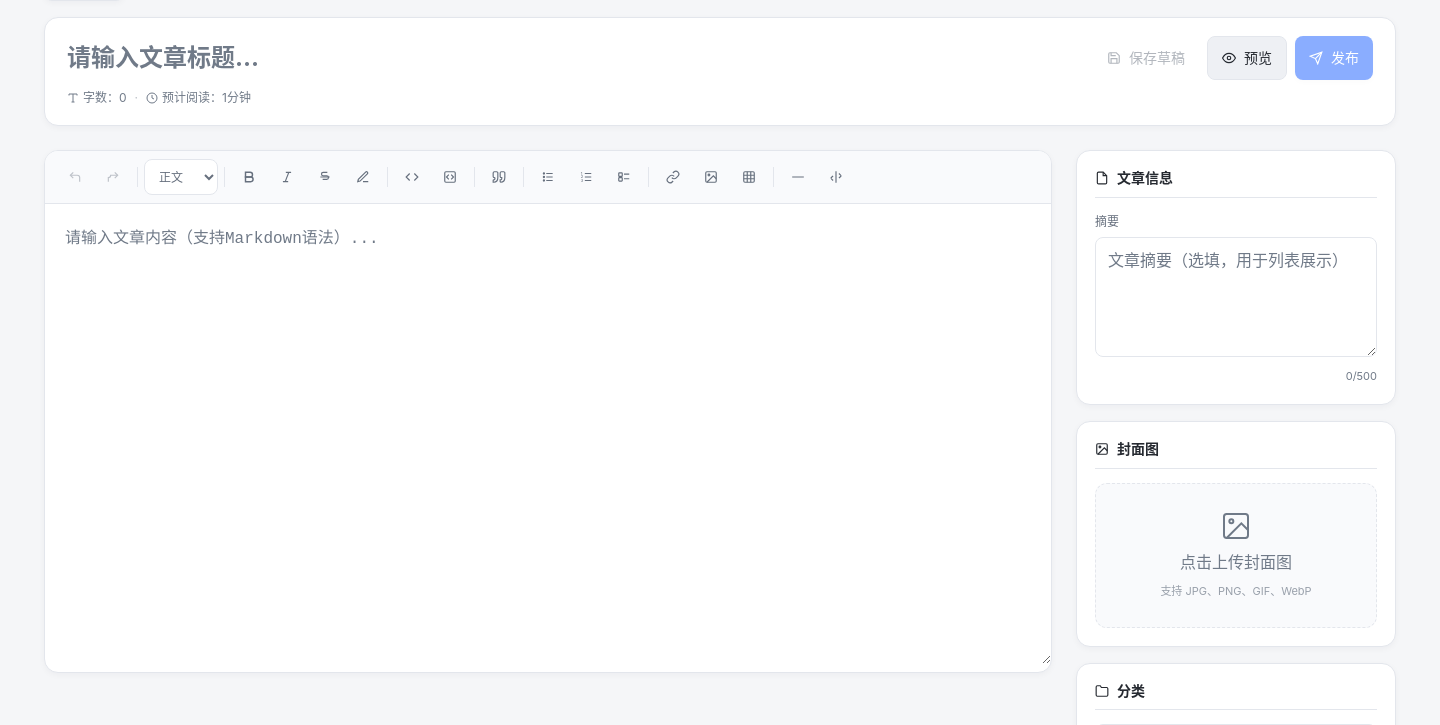
author editor smoke coverage › saves a draft with the real payload and reports the saved state
Type "新的记录" into the field with class "title-input" at {"x": 534, "y": 58}, box [67,39,1001,77]
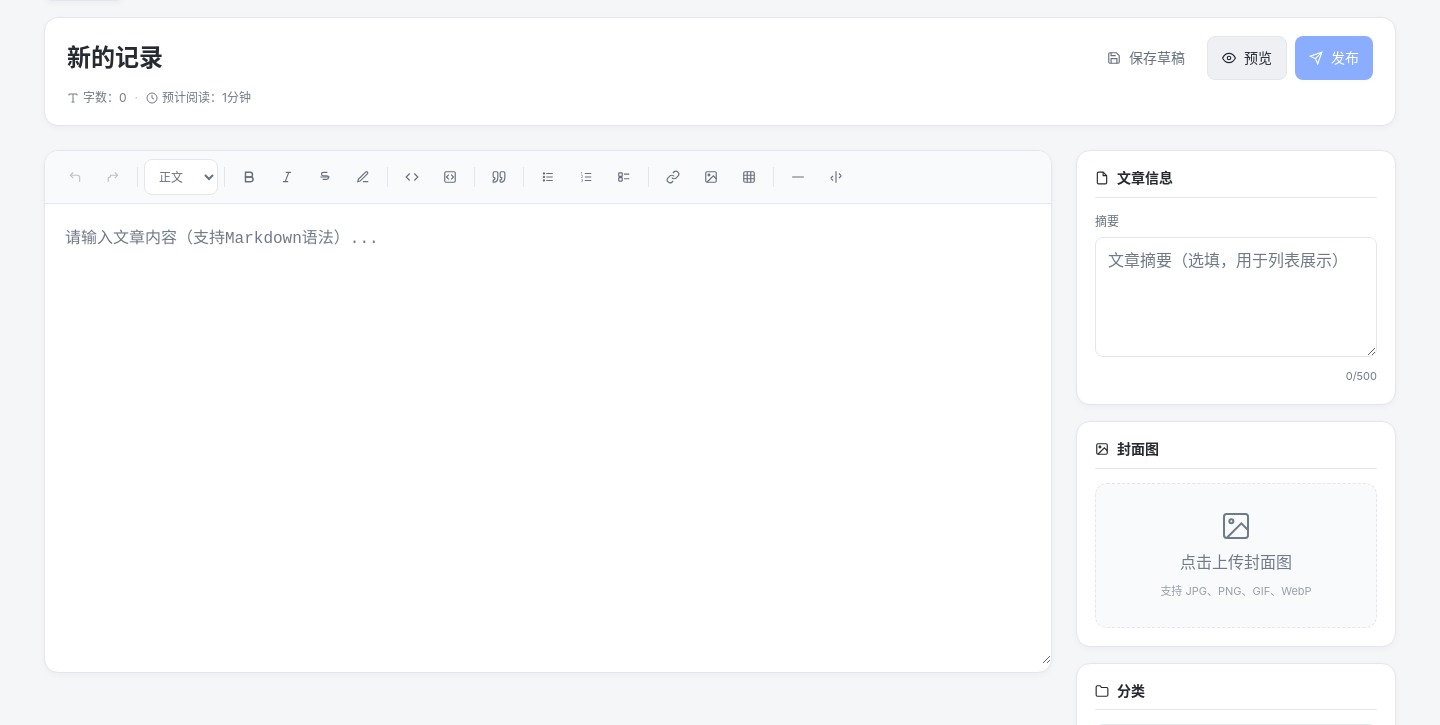
Type "正文内容" into the text box with class "content-input" at {"x": 548, "y": 434}, box [45,204,1051,664]
(page scrolled)
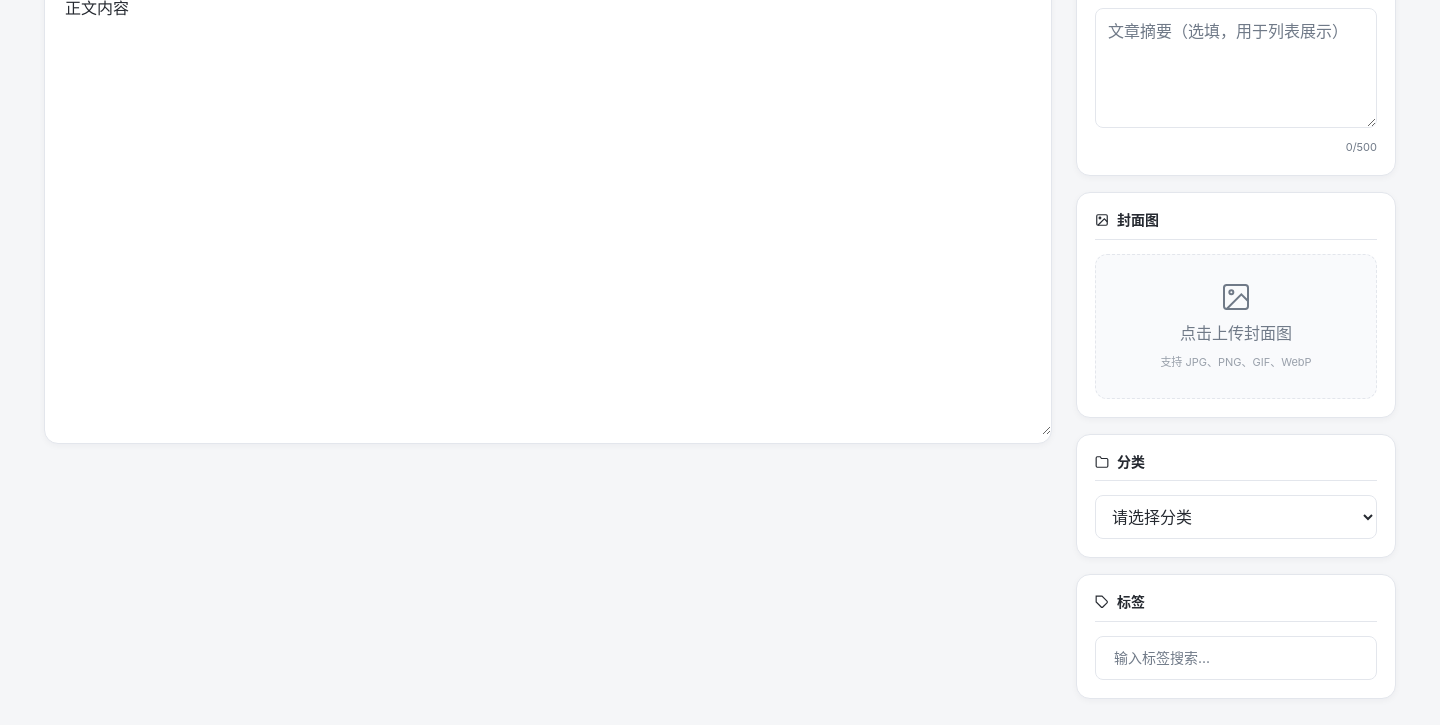
Select "技术" in the 2nd dropdown with class "form-input" at {"x": 1236, "y": 517}, box [1095,495,1377,539]
(page scrolled)
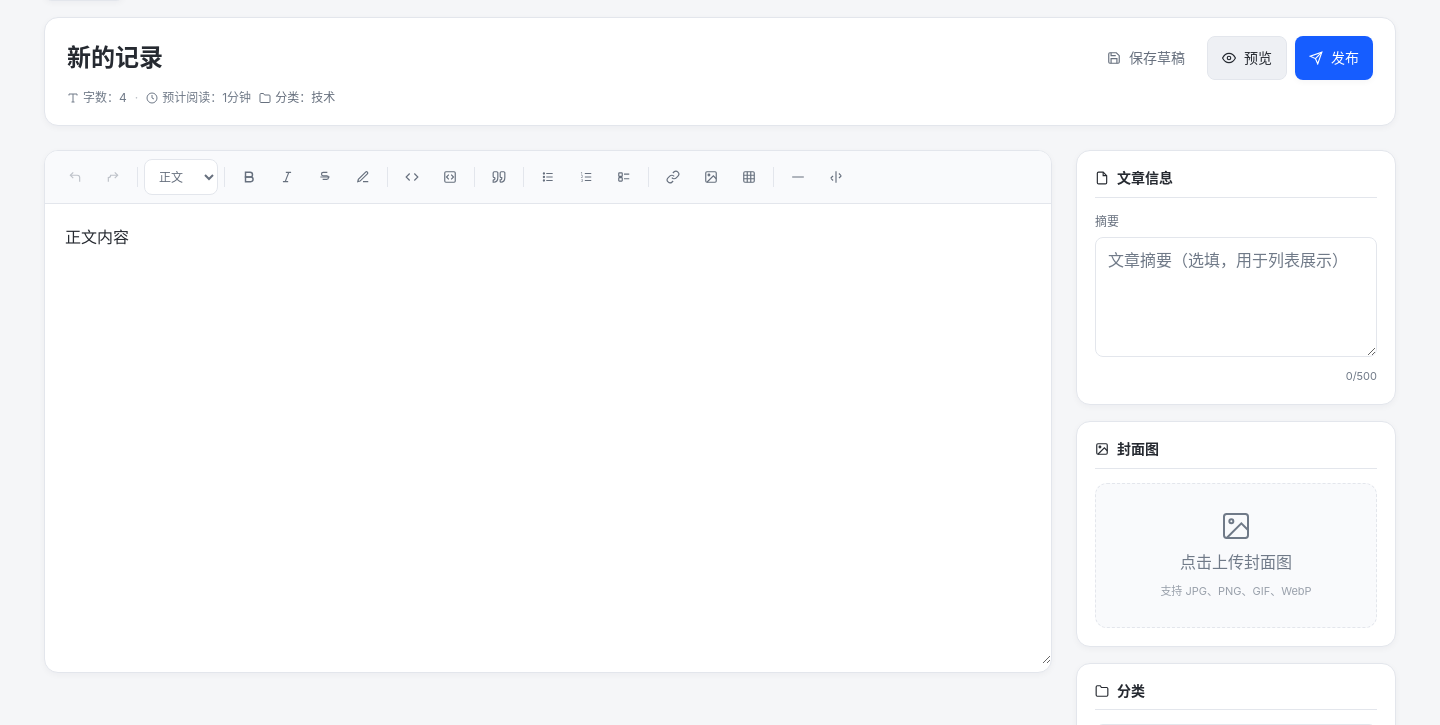
Click the button "保存草稿" at {"x": 1146, "y": 58}, box [1093,36,1199,80]
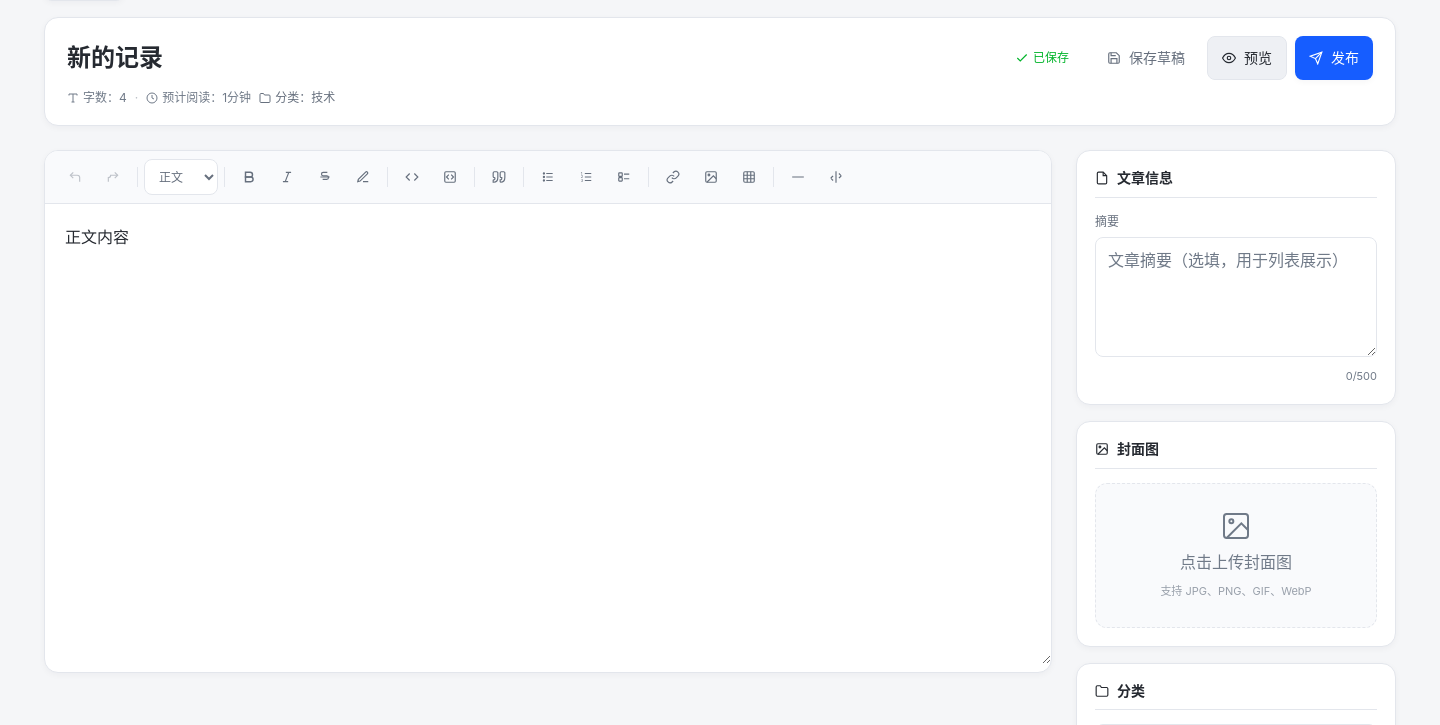
Expected: the text "已保存" is shown, [1015,50,1069,65]
